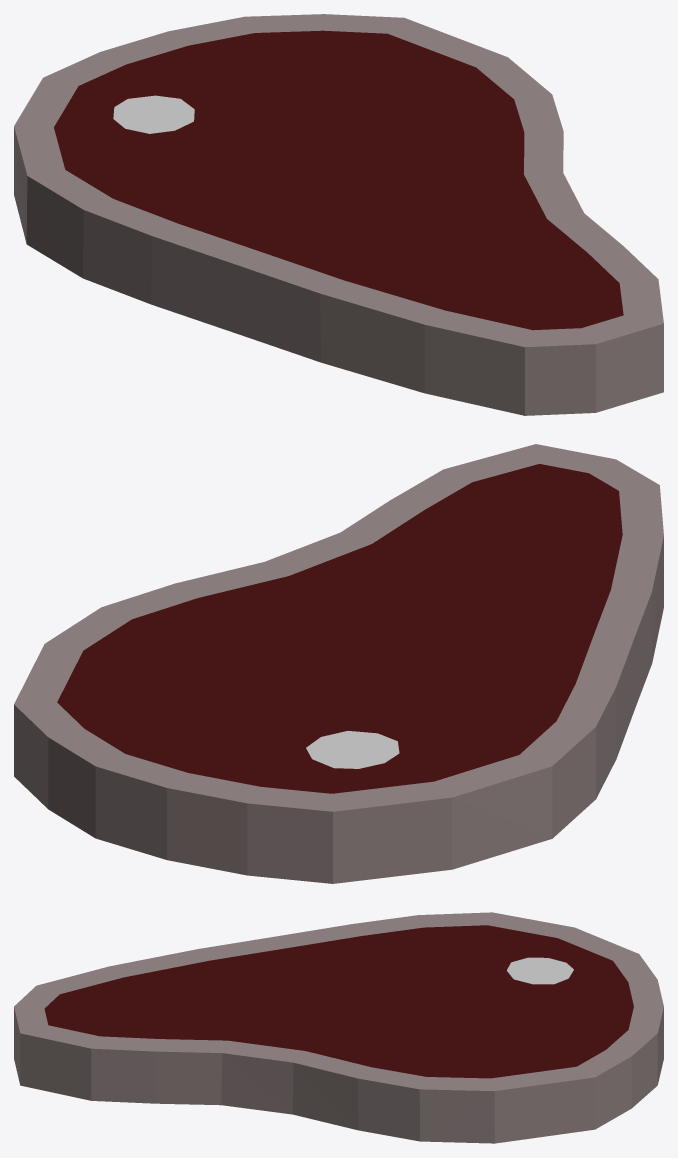
Rendered from Steak.fbx.
3 renders of one model, top to bottom at view 1: azimuth 30°, elevation 25°; view 2: azimuth 150°, elevation 25°; view 3: azimuth 270°, elevation 25°, orthographic. The views are drawn at different scales.
Parts seen in each view (by area): view 1: Steak; view 2: Steak; view 3: Steak.
Boxes of the visible parts, x1=… form: Steak: x1=14, y1=14, x2=663, y2=415; Steak: x1=14, y1=444, x2=663, y2=883; Steak: x1=14, y1=912, x2=663, y2=1143.
Bounding box in the file's own units: 19.78 × 2.69 × 30.32.
